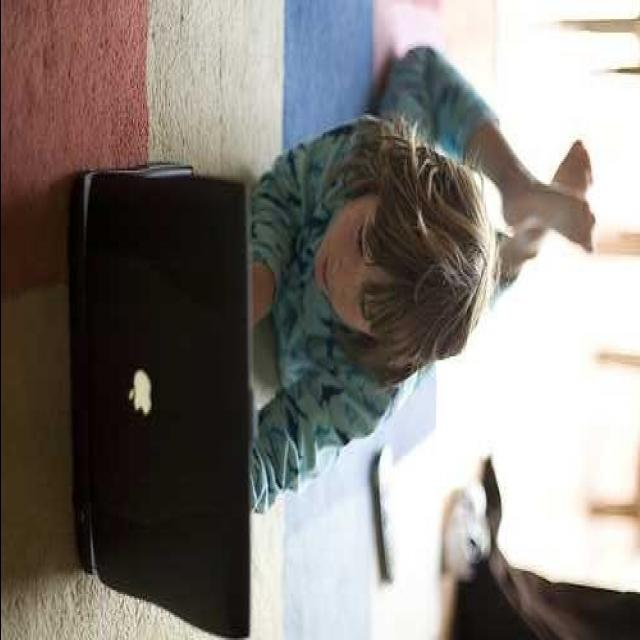laptop: (56, 138, 264, 640)
